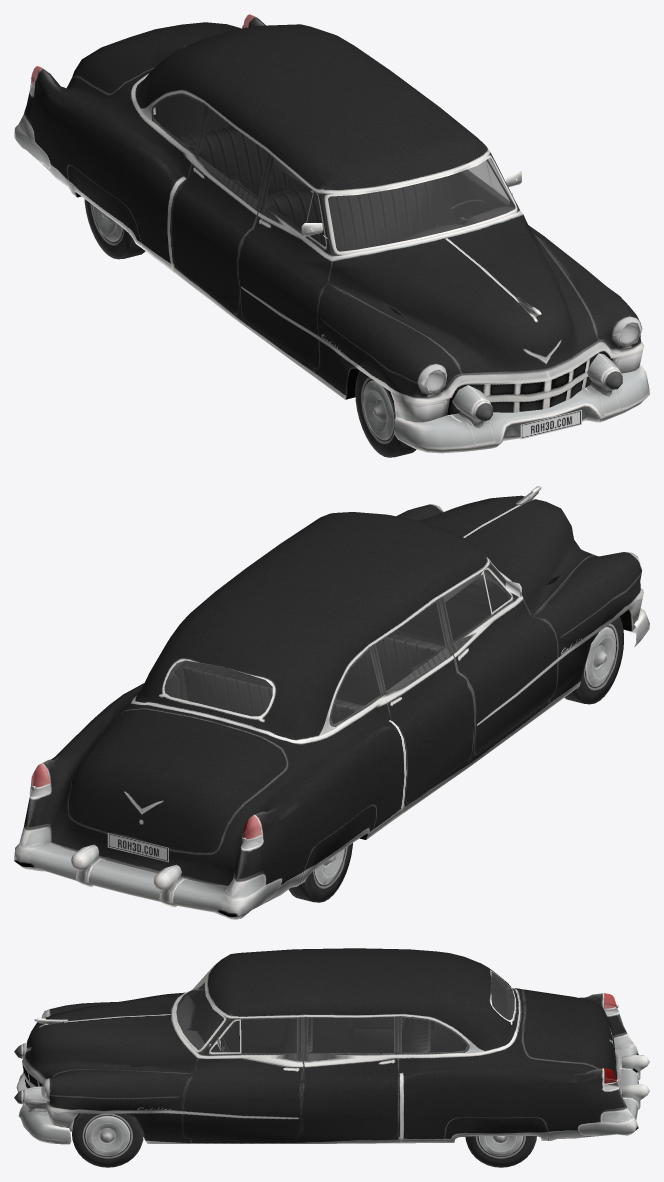
The model's file is cadillac-low-poly.glb.
3 renders of one model, top to bottom at view 1: azimuth 30°, elevation 25°; view 2: azimuth 150°, elevation 25°; view 3: azimuth 270°, elevation 25°, orthographic. The views are drawn at different scales.
Visible parts, largest first — view 1: Object_2, Object_3, Object_4; view 2: Object_2, Object_3, Object_4; view 3: Object_2, Object_3, Object_4.
Boxes of the visible parts, x1,y1,x2,y2 form: Object_2: (14, 16, 649, 453); Object_3: (84, 95, 515, 457); Object_4: (30, 14, 639, 392); Object_2: (14, 486, 649, 919); Object_3: (164, 569, 623, 902); Object_4: (29, 570, 511, 848); Object_2: (14, 948, 649, 1144); Object_3: (72, 975, 536, 1167); Object_4: (41, 968, 618, 1097).
Size of the model in its own units: 194 by 169 by 596.
3 materials, 3 textured.
